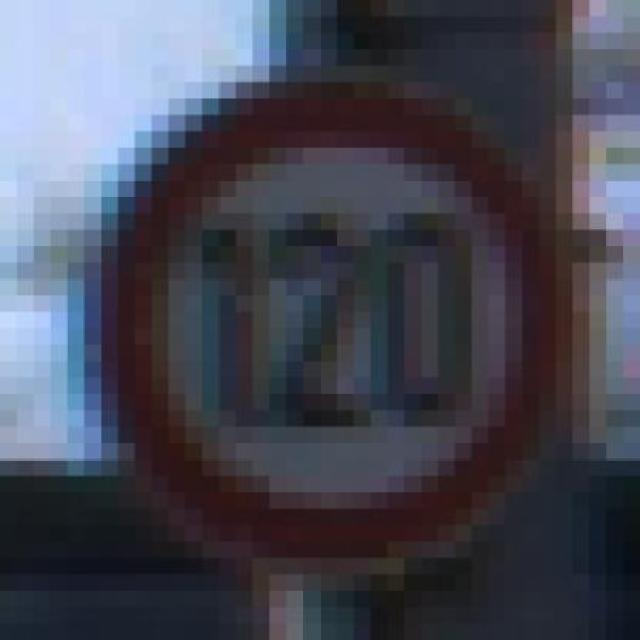forb_speed_over_120: (108, 78, 559, 561)
